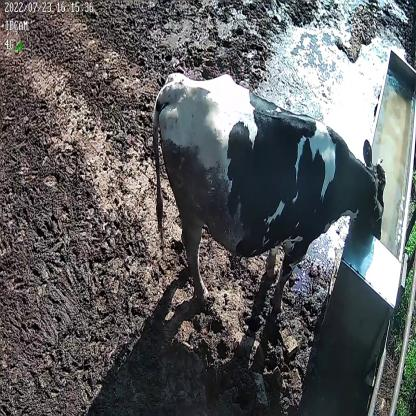cow: (151, 70, 387, 308)
